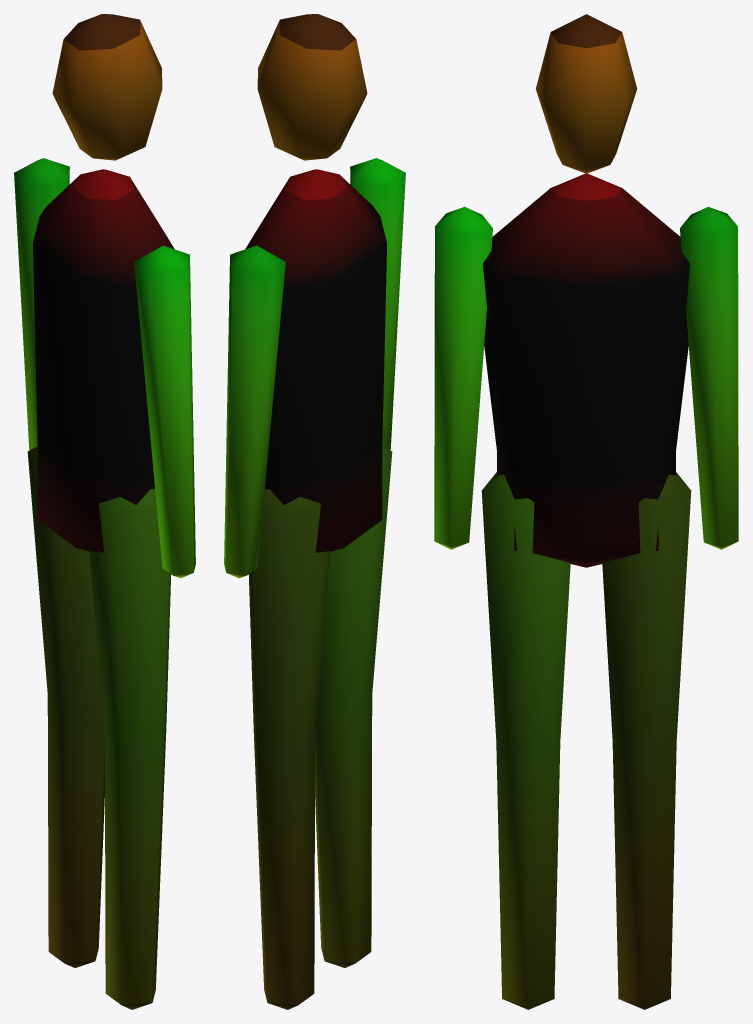
The model's file is person_lo.glb.
The picture shows the model from 3 angles, left to right: view 1: azimuth 30°, elevation 25°; view 2: azimuth 150°, elevation 25°; view 3: azimuth 270°, elevation 25°; orthographic projection.
Visible parts, largest first — view 1: person_lo; view 2: person_lo; view 3: person_lo.
Part boxes in pixels (x1,y1,x2,y2): person_lo: (14, 14, 195, 1009); person_lo: (224, 14, 405, 1009); person_lo: (434, 14, 738, 1009).
Bounding box in the file's own units: 0.2101 × 1.79 × 0.497.
